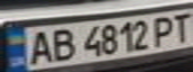1: (118, 19, 136, 53)
2: (130, 17, 154, 51)
4: (78, 23, 103, 57)
8: (100, 21, 121, 55)
A: (21, 28, 57, 65)
B: (45, 26, 78, 63)
P: (148, 14, 178, 47)
T: (166, 10, 193, 43)
